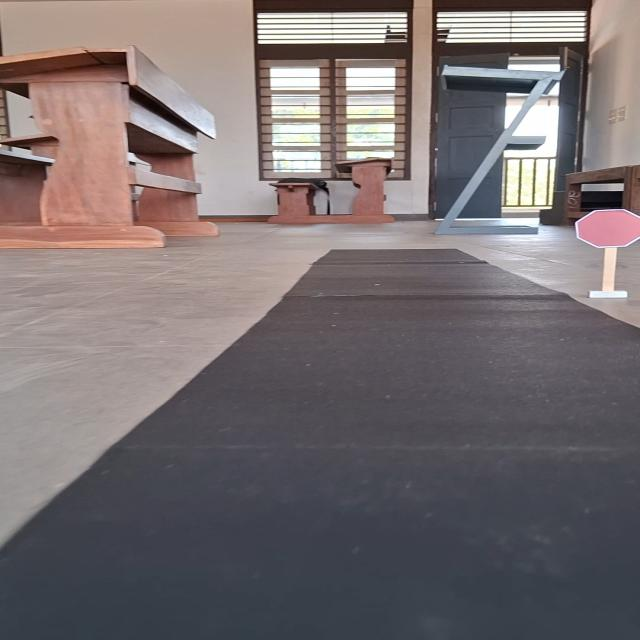Stop: (573, 207, 640, 248)
